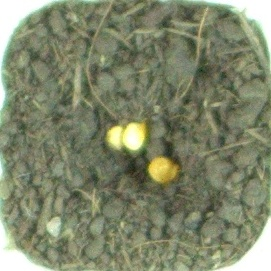chilli seed: (146, 155, 181, 185), (122, 121, 147, 151), (105, 124, 128, 150)
